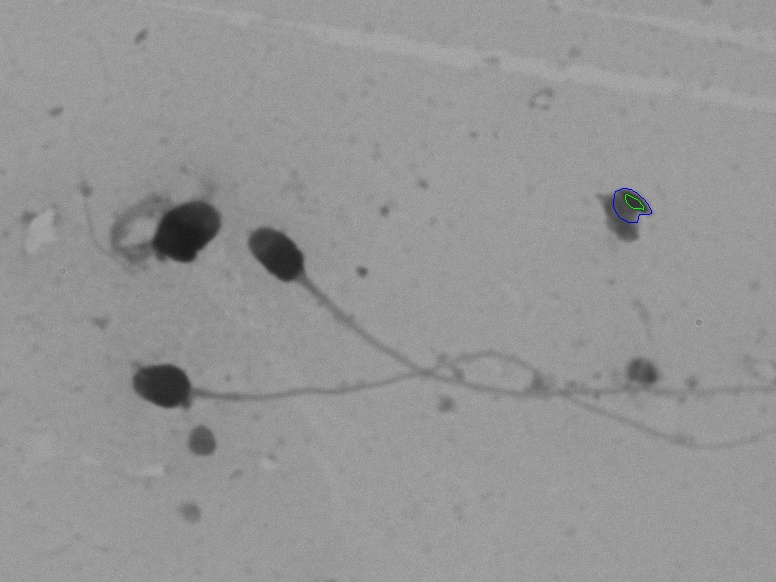Abnormal: (75, 117, 245, 288)
Normal: (219, 188, 773, 433), (110, 343, 757, 470)
